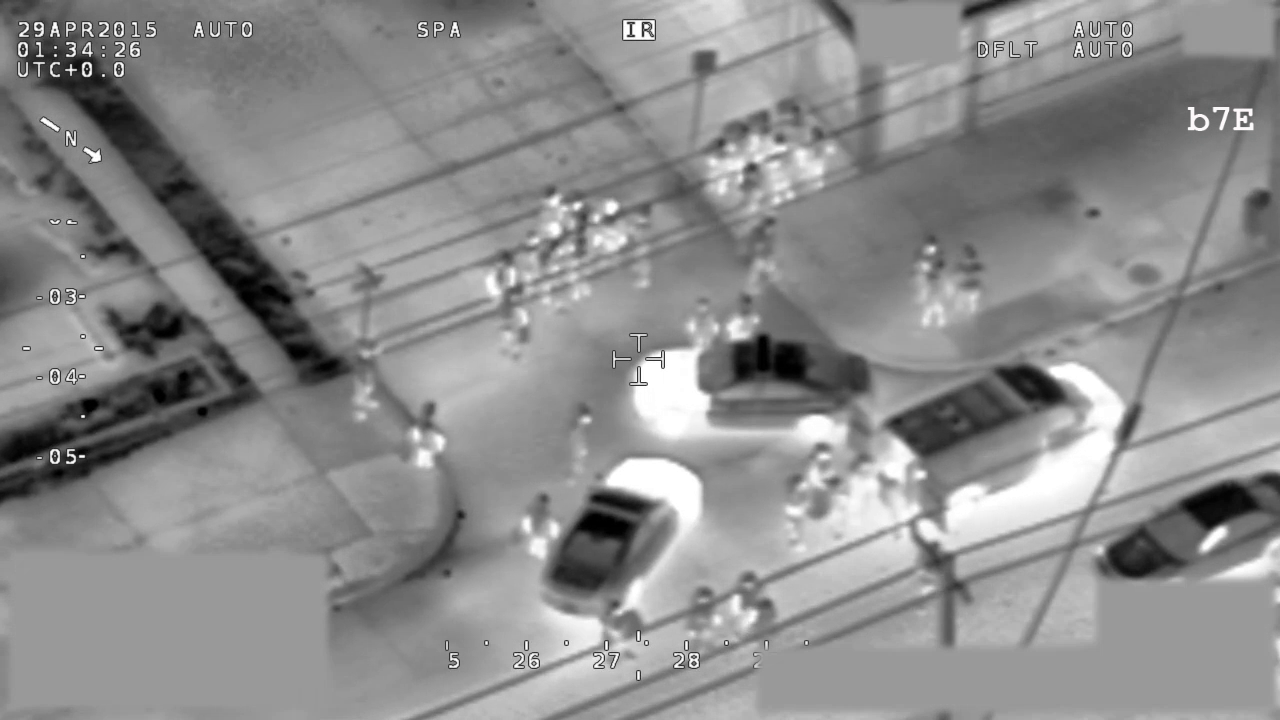vehicle: (848, 360, 1131, 531), (538, 452, 706, 622), (632, 336, 877, 444), (1097, 467, 1280, 577)
